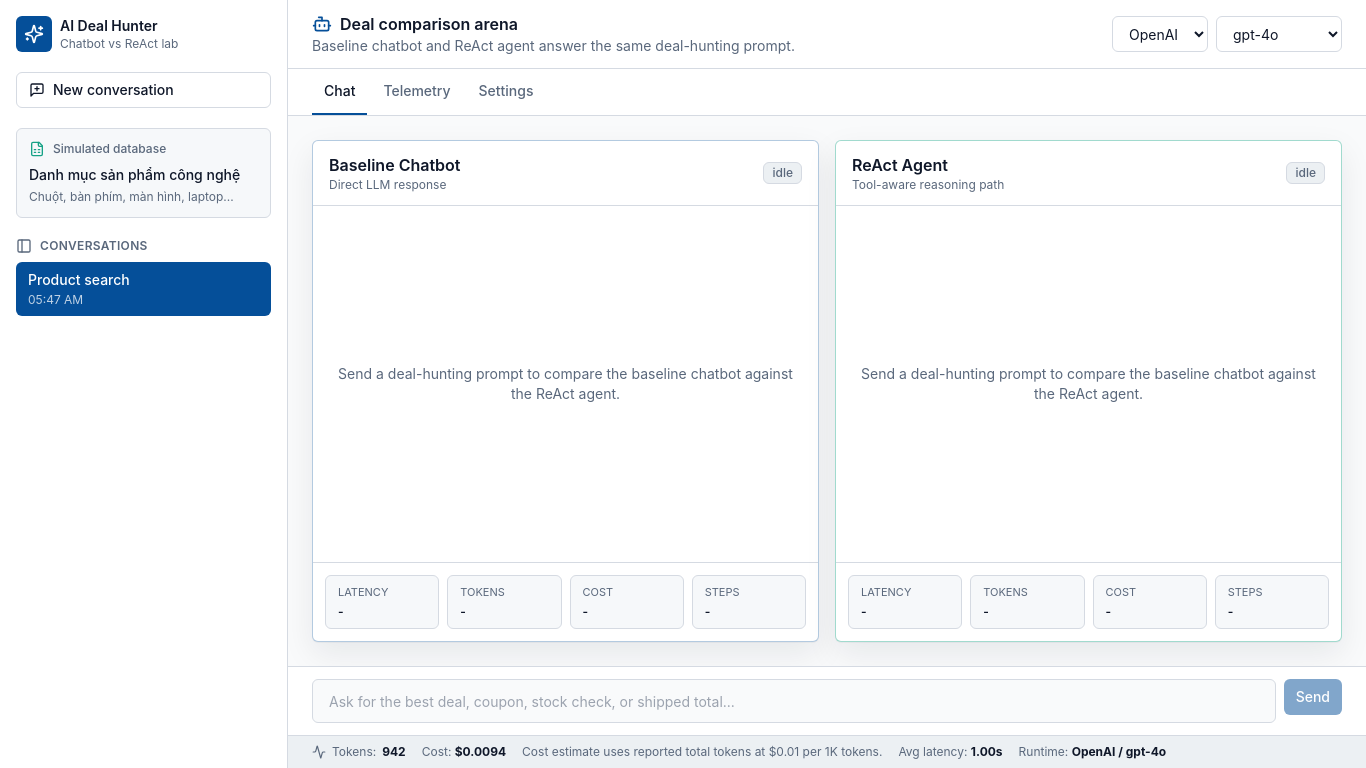
Test: AI Deal Hunter UI › changes model options when provider changes
Select "Gemini" in the 1st dropdown named "Provider" at (1160,34), box x1=1112 y1=16 x2=1208 y2=52
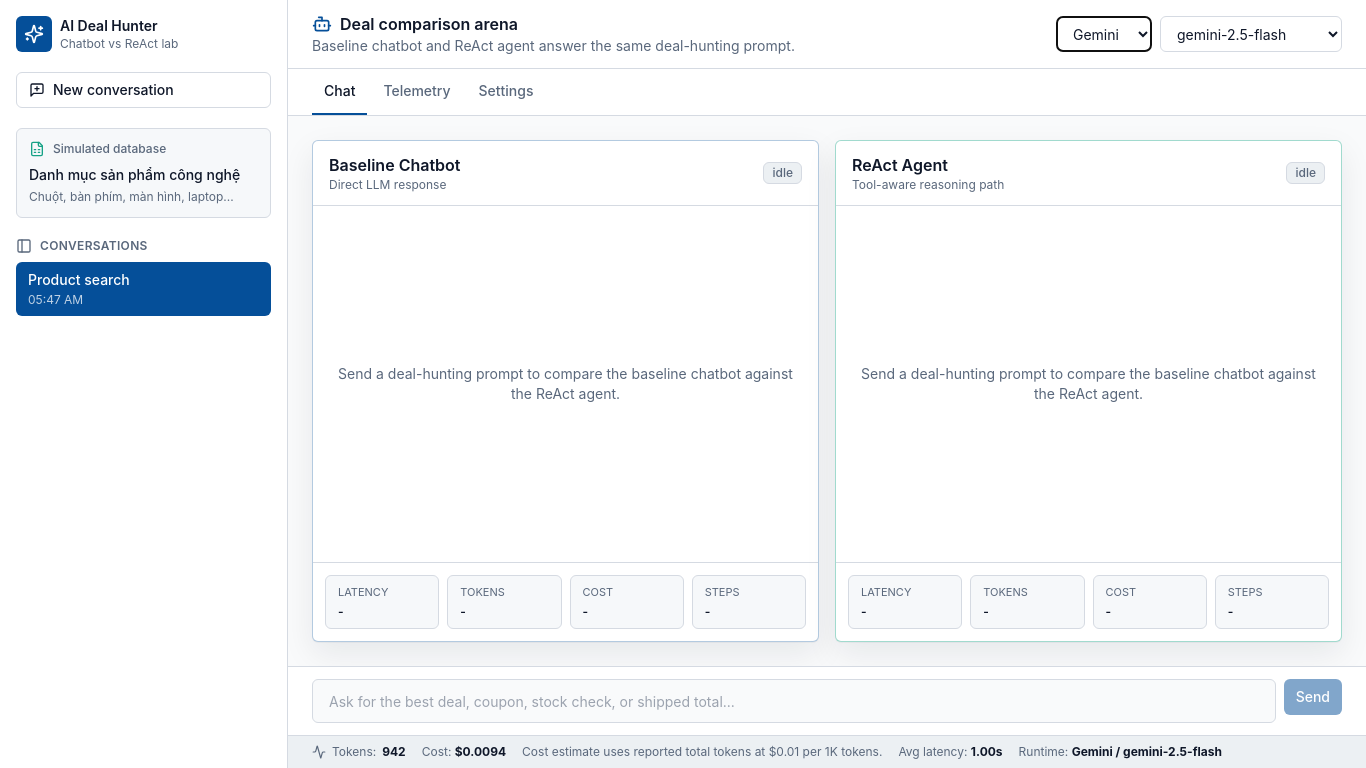
Expected: the 2nd dropdown named "Model" shows "gemini-2.5-flash", x1=1160 y1=16 x2=1342 y2=52
